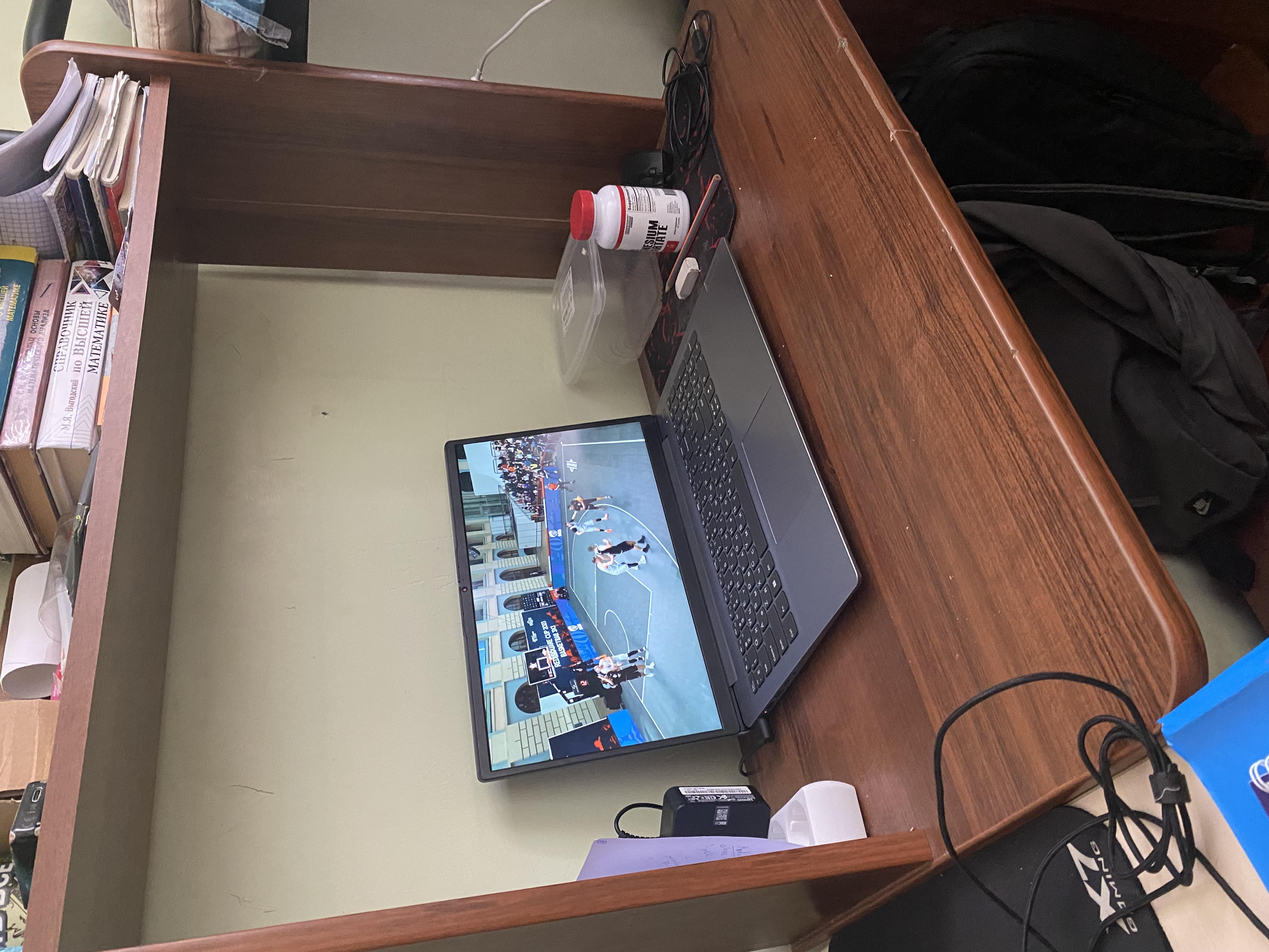monitor: (218, 328, 730, 567)
